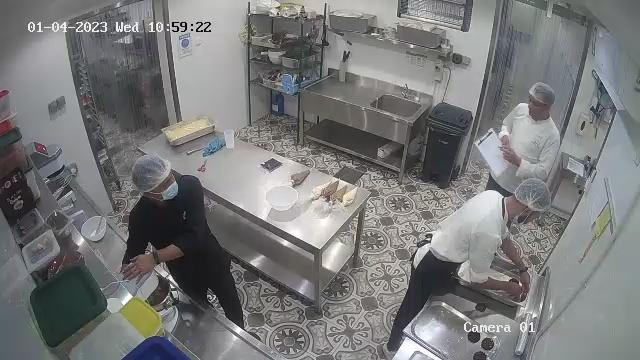no_apron: (135, 181, 224, 279), (490, 106, 556, 196)
